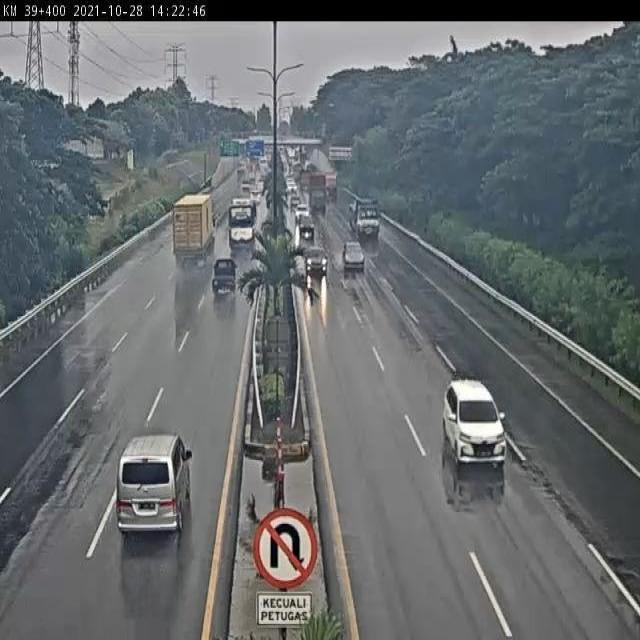Bus: (228, 200, 257, 253)
Car: (444, 380, 508, 466), (304, 246, 328, 275), (342, 242, 365, 272), (296, 203, 310, 223), (250, 189, 262, 206), (240, 181, 252, 195)
Truck: (172, 193, 216, 270), (348, 197, 380, 240), (211, 256, 237, 296), (297, 210, 315, 240), (325, 172, 337, 199)
Van: (116, 432, 193, 536)
